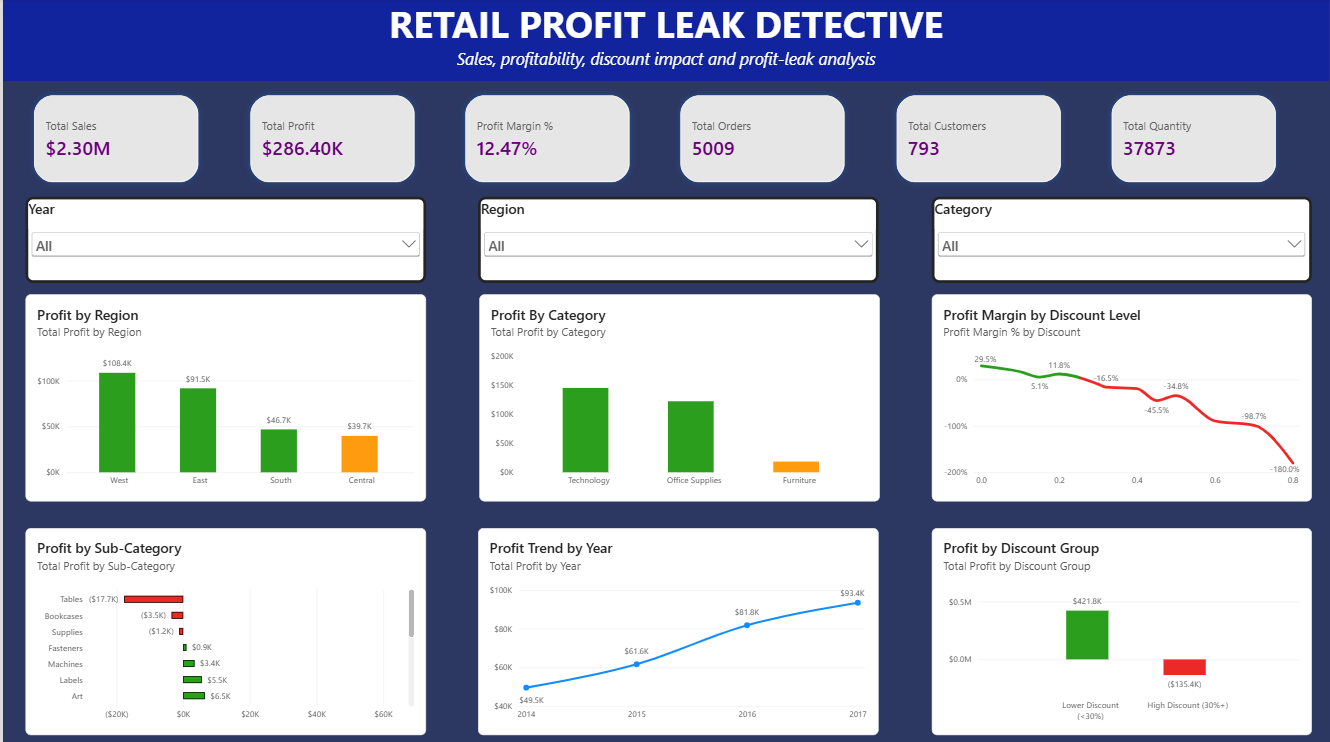

The page's visual inventory and layout, read from the dashboard file:
{"tool":"powerbi","page":{"name":"Executive Overview","canvas":[1920,1080],"ordinal":0},"visuals":[{"type":"cardVisual","fields":{"Data":["superstore_cleaned.Total Customers"]},"box":[1272,120,288,168],"z":0},{"type":"cardVisual","fields":{"Data":["superstore_cleaned.Total Sales"]},"box":[24,120,288,168],"z":1000},{"type":"cardVisual","fields":{"Data":["superstore_cleaned.Total Quantity"]},"box":[1584,120,288,168],"z":2000},{"type":"cardVisual","fields":{"Data":["superstore_cleaned.Total Orders"]},"box":[960,120,288,168],"z":3000},{"type":"cardVisual","fields":{"Data":["superstore_cleaned.Total Profit"]},"box":[336,120,288,168],"z":4000},{"type":"cardVisual","fields":{"Data":["superstore_cleaned.Profit Margin %"]},"box":[648,120,288,168],"z":5000},{"type":"clusteredColumnChart","title":"Profit By Category","fields":{"Category":["superstore_cleaned.Category"],"Y":["superstore_cleaned.Total Profit"]},"box":[688.7,428.6,580,300],"z":6000},{"type":"clusteredColumnChart","title":"Profit by Region","fields":{"Category":["superstore_cleaned.Region"],"Y":["superstore_cleaned.Total Profit"]},"box":[33.3,428.6,580,300],"z":7000},{"type":"lineChart","title":"Profit Margin by Discount Level","fields":{"Category":["superstore_cleaned.Discount"],"Y":["superstore_cleaned.Profit Margin %"]},"box":[1344,428.6,550,300],"z":8000},{"type":"clusteredBarChart","title":"Profit by Sub-Category","fields":{"Category":["superstore_cleaned.Sub-Category"],"Y":["superstore_cleaned.Total Profit"]},"box":[33,768,580,300],"z":9000},{"type":"lineChart","title":"Profit Trend by Year","fields":{"Category":["superstore_cleaned.Order Date.Variation.Date Hierarchy.Year"],"Y":["superstore_cleaned.Total Profit"]},"box":[688.5,768,580,300],"z":10000},{"type":"clusteredColumnChart","title":"Profit by Discount Group","fields":{"Category":["superstore_cleaned.Discount Group"],"Y":["superstore_cleaned.Total Profit"]},"box":[1344,768,550,300],"z":11000},{"type":"slicer","title":"Year","fields":{"Values":["superstore_cleaned.Order Date.Variation.Date Hierarchy.Year"]},"box":[33,288,580,125],"z":12000},{"type":"slicer","title":"Region","fields":{"Values":["superstore_cleaned.Region"]},"box":[688.5,288,580,125],"z":13000},{"type":"slicer","title":"Category","fields":{"Values":["superstore_cleaned.Category"]},"box":[1344,288,550,125],"z":14000},{"type":"textbox","box":[865,930,150,150],"z":15000},{"type":"textbox","box":[0,0,1920,120],"z":16000}]}

Visuals, with their boxes in screenshot pixels (x1, y1, x2, y2), scaled from the page's 1920x1080 canvas onto the 1330x742 screenshot:
cardVisual - superstore_cleaned.Total Customers: [881,82,1081,198]
cardVisual - superstore_cleaned.Total Sales: [17,82,216,198]
cardVisual - superstore_cleaned.Total Quantity: [1097,82,1297,198]
cardVisual - superstore_cleaned.Total Orders: [665,82,864,198]
cardVisual - superstore_cleaned.Total Profit: [233,82,432,198]
cardVisual - superstore_cleaned.Profit Margin %: [449,82,648,198]
"Profit By Category" clusteredColumnChart: [477,294,879,501]
"Profit by Region" clusteredColumnChart: [23,294,425,501]
"Profit Margin by Discount Level" lineChart: [931,294,1312,501]
"Profit by Sub-Category" clusteredBarChart: [23,528,425,734]
"Profit Trend by Year" lineChart: [477,528,879,734]
"Profit by Discount Group" clusteredColumnChart: [931,528,1312,734]
"Year" slicer: [23,198,425,284]
"Region" slicer: [477,198,879,284]
"Category" slicer: [931,198,1312,284]
textbox: [599,639,703,741]
textbox: [0,0,1329,82]
